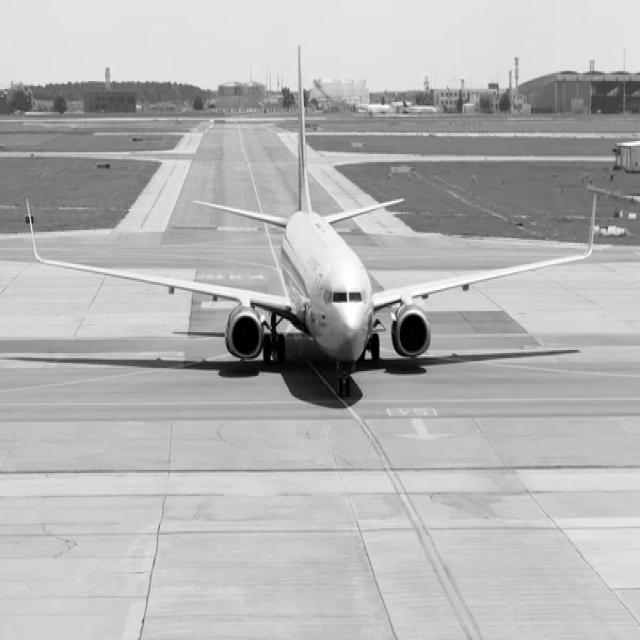Aircraft: (29, 43, 600, 389)
